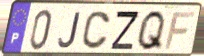0: (28, 8, 54, 52)
C: (80, 10, 112, 51)
F: (163, 11, 198, 51)
J: (57, 11, 81, 50)
Q: (135, 9, 167, 52)
Z: (109, 10, 141, 52)
